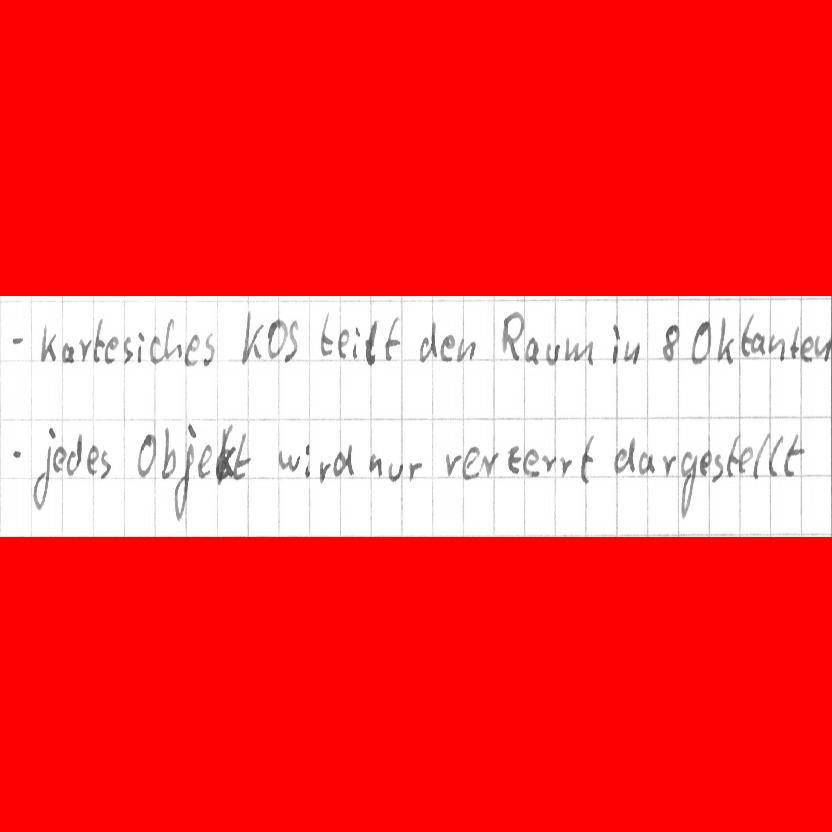Char: (171, 423, 192, 522), (31, 434, 56, 511), (240, 308, 264, 367), (680, 449, 698, 518), (502, 309, 524, 361), (781, 431, 804, 478), (688, 319, 709, 366), (715, 314, 734, 365), (563, 334, 594, 365), (266, 318, 288, 361), (160, 425, 177, 480), (382, 315, 401, 364), (579, 430, 596, 484), (614, 434, 636, 475), (216, 427, 233, 479), (136, 433, 156, 477), (331, 441, 354, 479), (39, 321, 59, 363), (165, 313, 182, 362), (417, 319, 436, 362), (233, 432, 250, 479), (283, 319, 300, 363), (767, 435, 784, 479), (318, 311, 334, 356), (661, 322, 678, 361), (462, 444, 480, 480), (277, 446, 299, 475), (68, 434, 83, 476), (364, 320, 378, 365), (754, 433, 768, 478), (741, 314, 756, 356), (521, 447, 541, 478), (480, 451, 500, 479), (198, 442, 212, 481), (201, 333, 217, 367), (185, 332, 201, 366), (767, 333, 787, 360), (439, 333, 457, 363), (443, 452, 462, 480), (507, 444, 523, 476), (92, 320, 104, 362), (457, 336, 476, 362), (737, 446, 754, 475), (728, 435, 740, 476), (524, 335, 540, 365), (708, 453, 723, 484), (104, 333, 119, 364), (52, 444, 68, 473), (815, 334, 832, 361), (638, 448, 655, 475), (386, 458, 405, 482), (623, 341, 642, 365), (610, 323, 621, 364), (149, 333, 164, 363), (86, 446, 101, 476), (335, 328, 349, 360), (799, 334, 814, 363), (698, 448, 713, 477), (555, 455, 574, 477), (661, 453, 678, 477), (303, 440, 313, 480), (789, 324, 800, 360), (749, 332, 766, 355), (544, 341, 560, 365), (122, 335, 135, 364), (315, 458, 330, 483), (368, 453, 383, 478), (351, 325, 361, 362), (540, 453, 557, 474), (135, 331, 146, 363), (100, 448, 111, 480), (77, 337, 90, 362), (407, 460, 422, 481), (8, 333, 27, 349), (61, 341, 74, 362), (9, 445, 24, 462)
